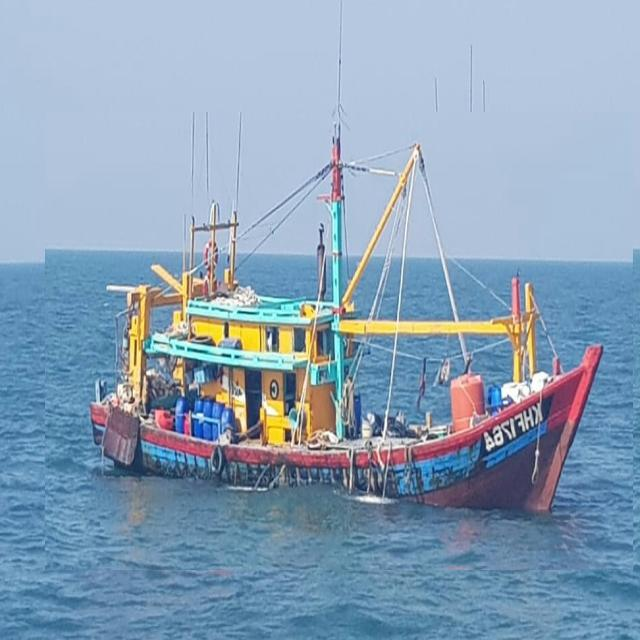Fishing Boat: (45, 112, 633, 570)
